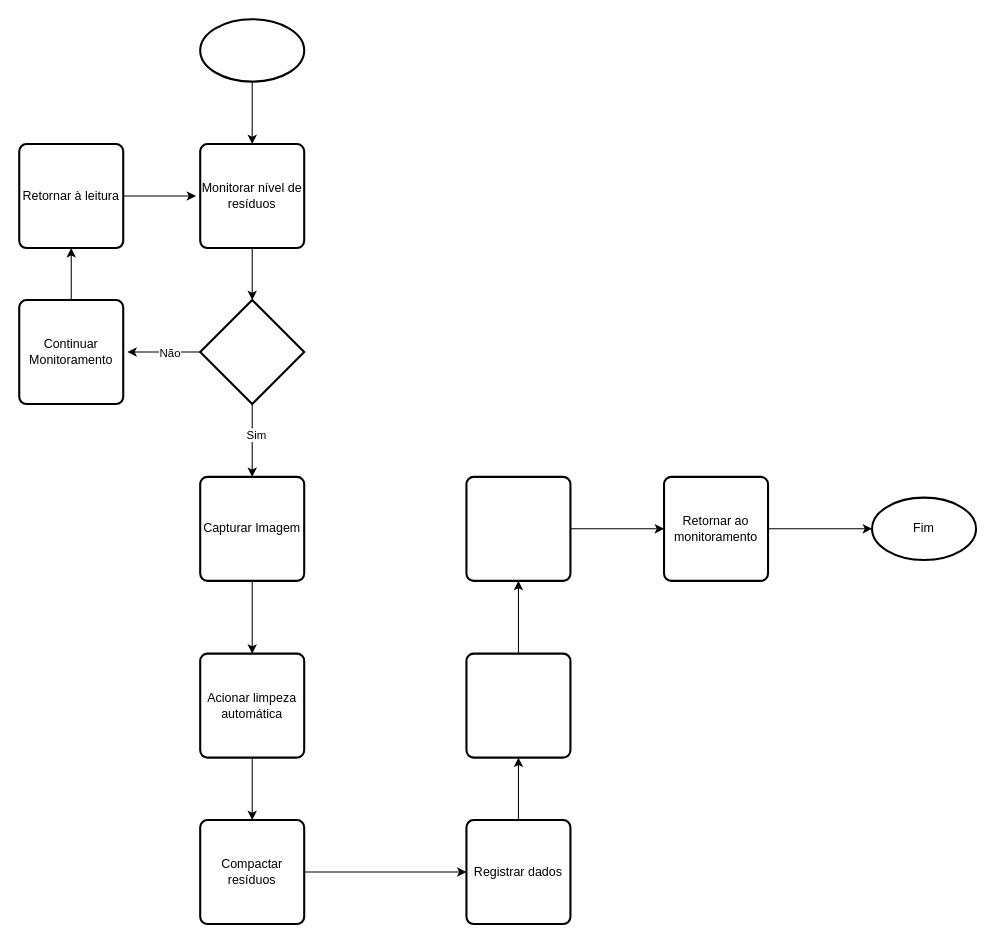
This 994x942 diagram has some shape labels left out. The shapes that lost their labels are listed below. From the top down, each one's box as (x1, y1, x2, y2) in pixels, then its label:
(199, 18, 305, 82): Inicio
(199, 298, 305, 405): Nível Crítico Detectado?
(465, 475, 571, 581): Atualizar dashboard
(465, 652, 571, 758): Emitir alerta
